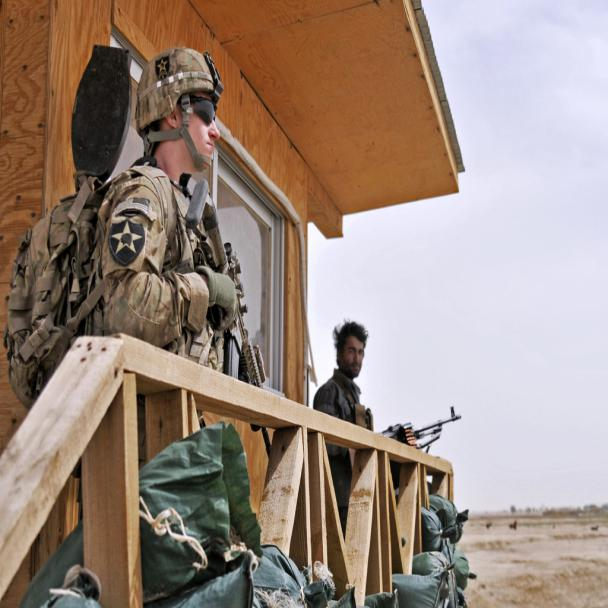Gun: (192, 174, 286, 468), (370, 398, 474, 453)
